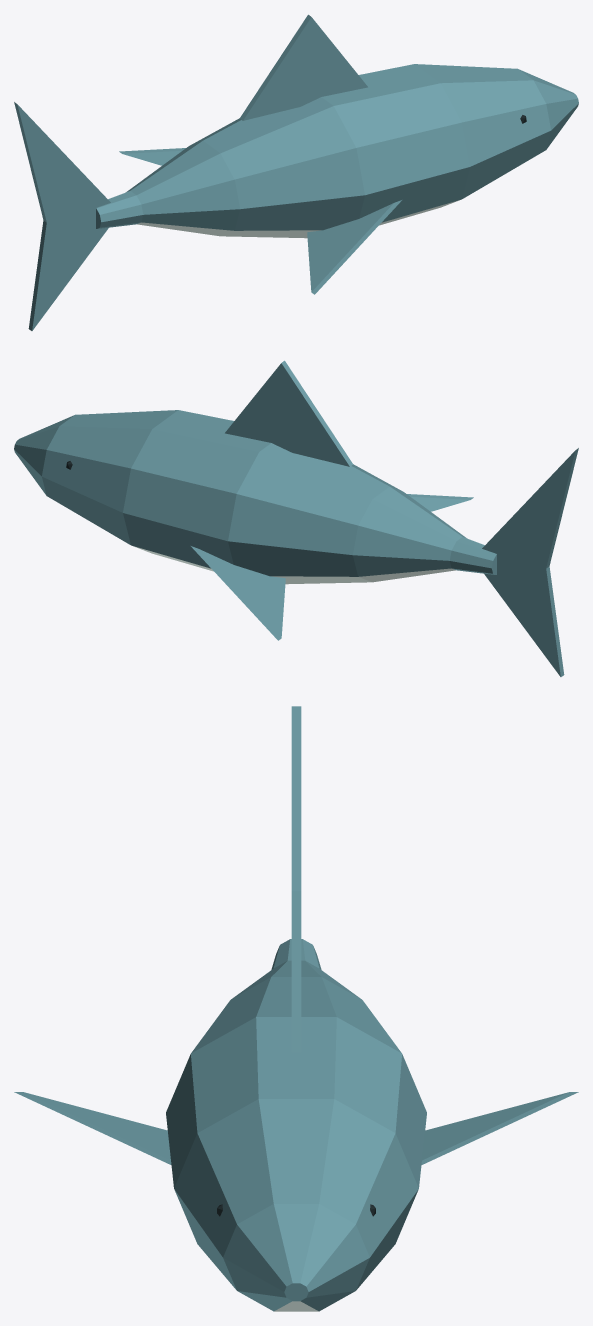
Rendered from reef_shark.glb.
3 renders of one model, top to bottom at view 1: azimuth 30°, elevation 25°; view 2: azimuth 150°, elevation 25°; view 3: azimuth 270°, elevation 25°, orthographic. The views are drawn at different scales.
Parts seen in each view (by area): view 1: reef_shark_body, Dorsal, Tail_upper, Tail_lower, Pectoral, Pectoral.001; view 2: reef_shark_body, Dorsal, Tail_upper, Tail_lower, Pectoral.001, Pectoral; view 3: reef_shark_body, Pectoral, Pectoral.001, Tail_upper, Dorsal.
Part boxes in pixels (x1,y1,x2,y2): reef_shark_body: [96, 64, 578, 238]; Dorsal: [239, 14, 367, 120]; Tail_upper: [14, 102, 110, 222]; Tail_lower: [28, 216, 108, 330]; Pectoral: [307, 200, 401, 294]; Pectoral.001: [119, 148, 185, 165]; reef_shark_body: [14, 410, 496, 584]; Dorsal: [225, 360, 353, 466]; Tail_upper: [482, 448, 578, 568]; Tail_lower: [484, 562, 564, 676]; Pectoral.001: [191, 546, 285, 640]; Pectoral: [407, 494, 473, 511]; reef_shark_body: [166, 939, 426, 1311]; Pectoral: [14, 1092, 171, 1164]; Pectoral.001: [421, 1092, 578, 1164]; Tail_upper: [291, 706, 301, 891]; Dorsal: [291, 891, 301, 1052].
Bounding box in the file's own units: 3.19 × 1.34 × 1.94.
